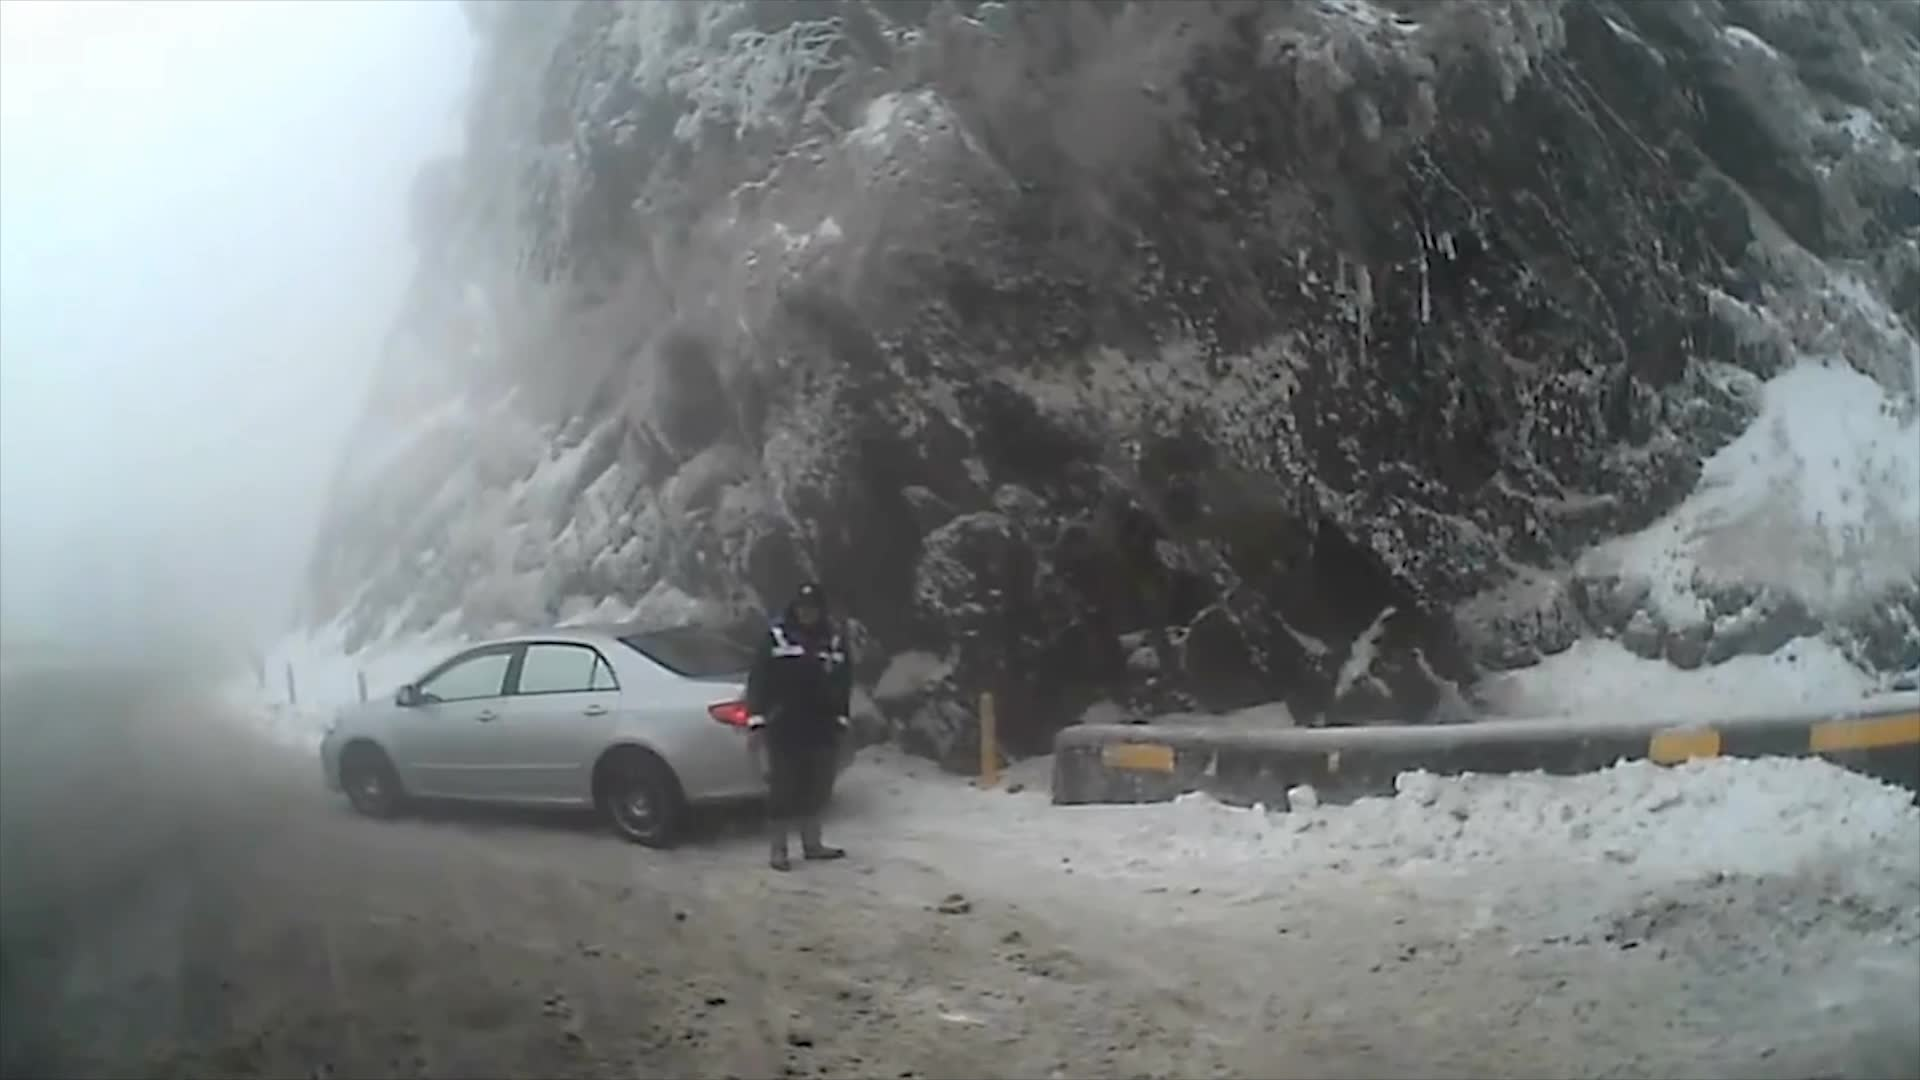pedestrian: (743, 583, 853, 874)
vehicle: (318, 618, 855, 850)
